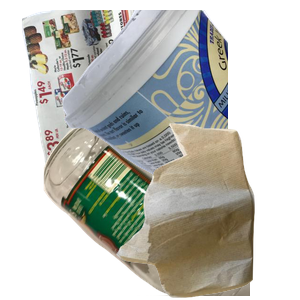glass: (41, 120, 281, 300)
paper: (19, 10, 223, 190)
plastic: (60, 10, 300, 190)
trash: (114, 121, 300, 300)
